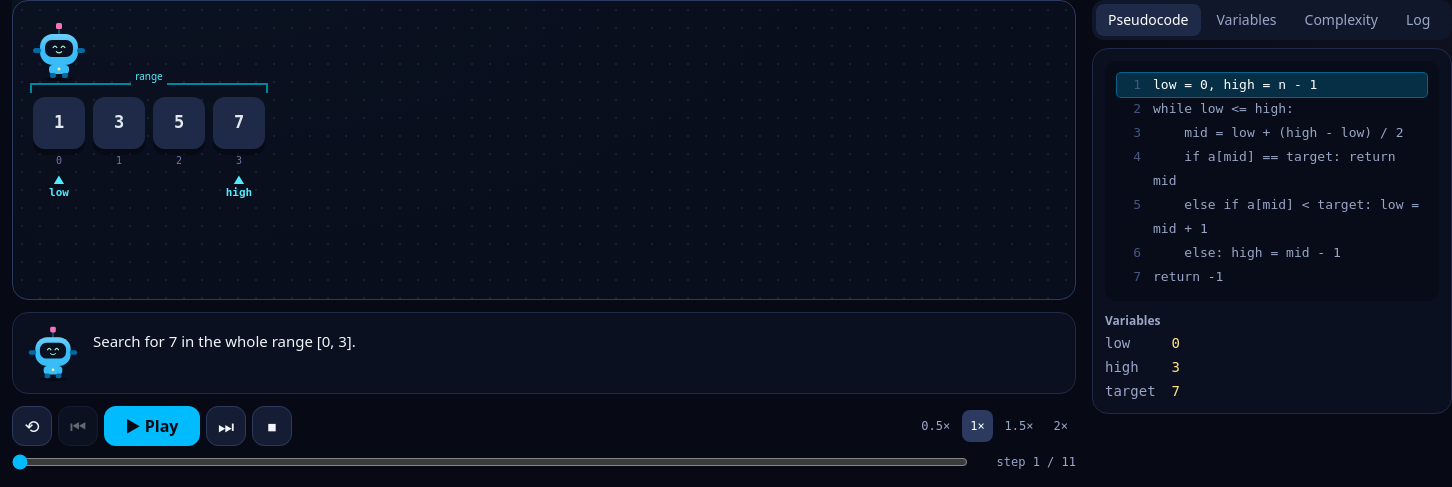
Scenario: Player › renders explanation, steps with buttons and keyboard, and highlights pseudocode
Later steps or results of the test are not shown.
Expected: the text with test id "step-explanation" shows "Search for 7", [93,331,356,351]
Click the button named "Next step" at (226, 426), box [206,406,246,446]
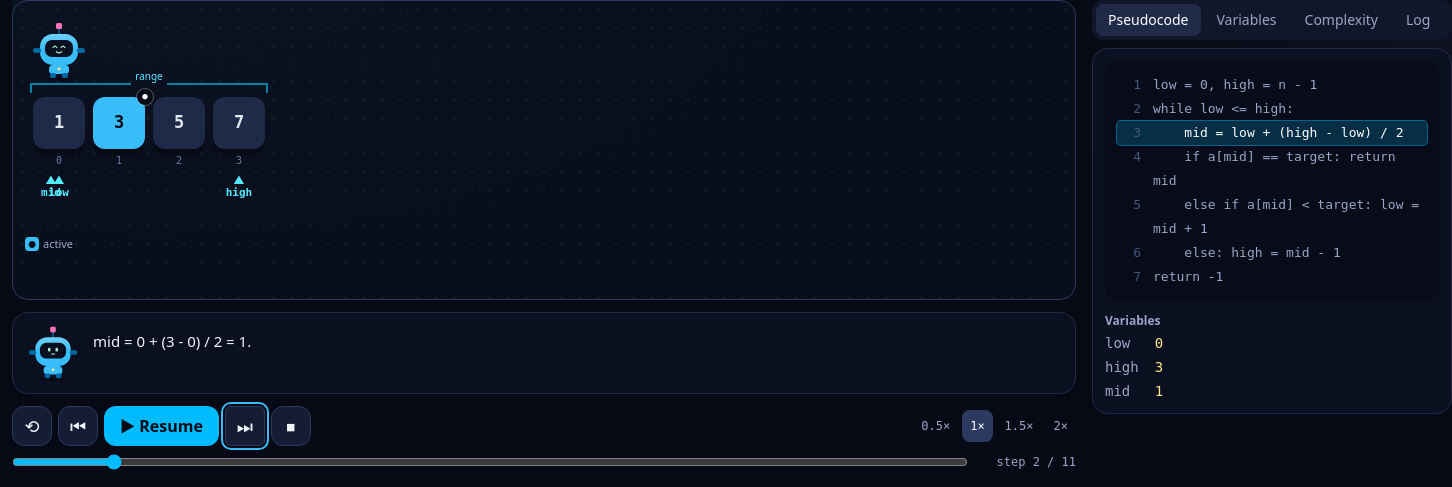
Expected: the list item "3 mid = low + (high - low) / 2" is shown, [1117,121,1427,145]
Result: the text with test id "step-explanation" shows "mid =" at [93,331,251,351]
Press ArrowRight in the element with test id "player"
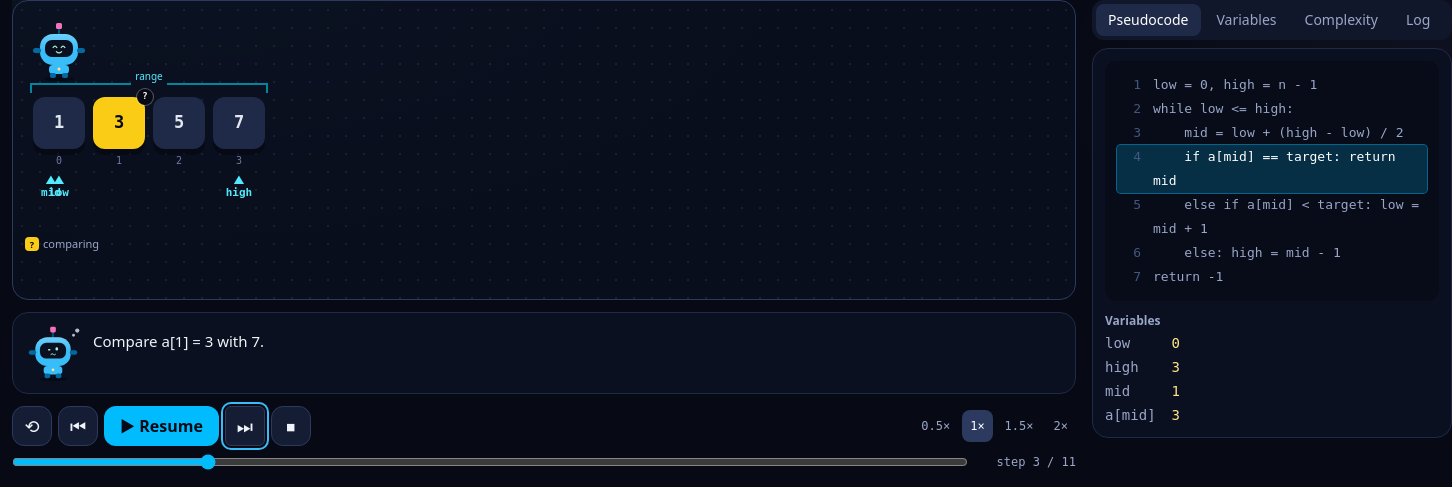
Result: the text with test id "step-explanation" shows "Compare a[1]" at [93,331,264,351]
